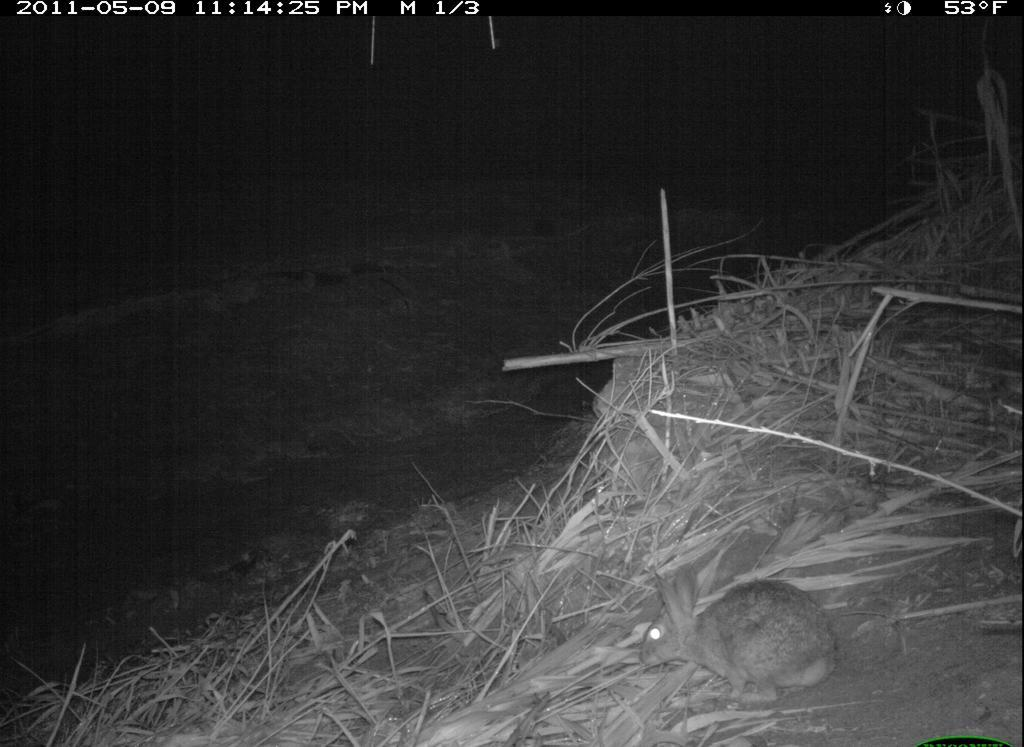rabbit: (641, 556, 849, 707)
